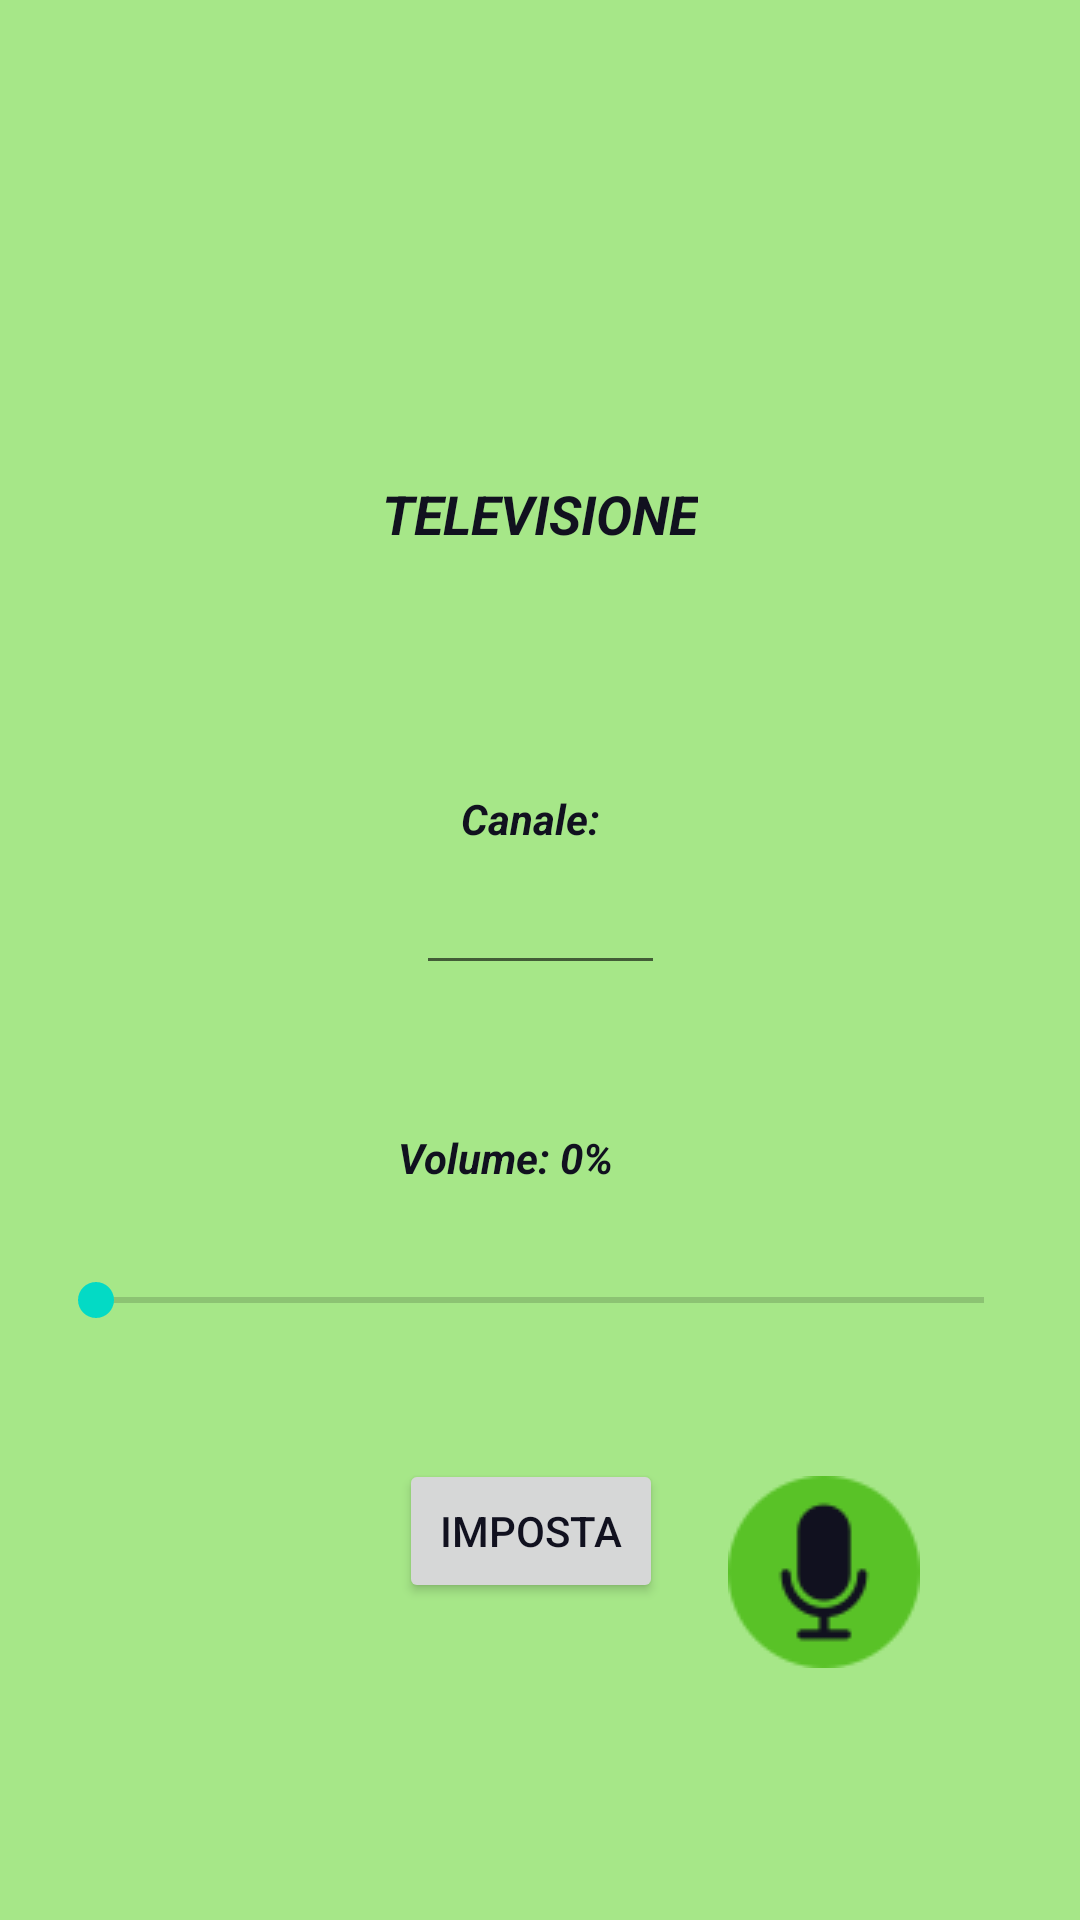

Named icons in this screenshot (1080x1920) and their bounding boxes, (x1, y1, x2, y2):
microphone: (728, 1476, 920, 1668)
